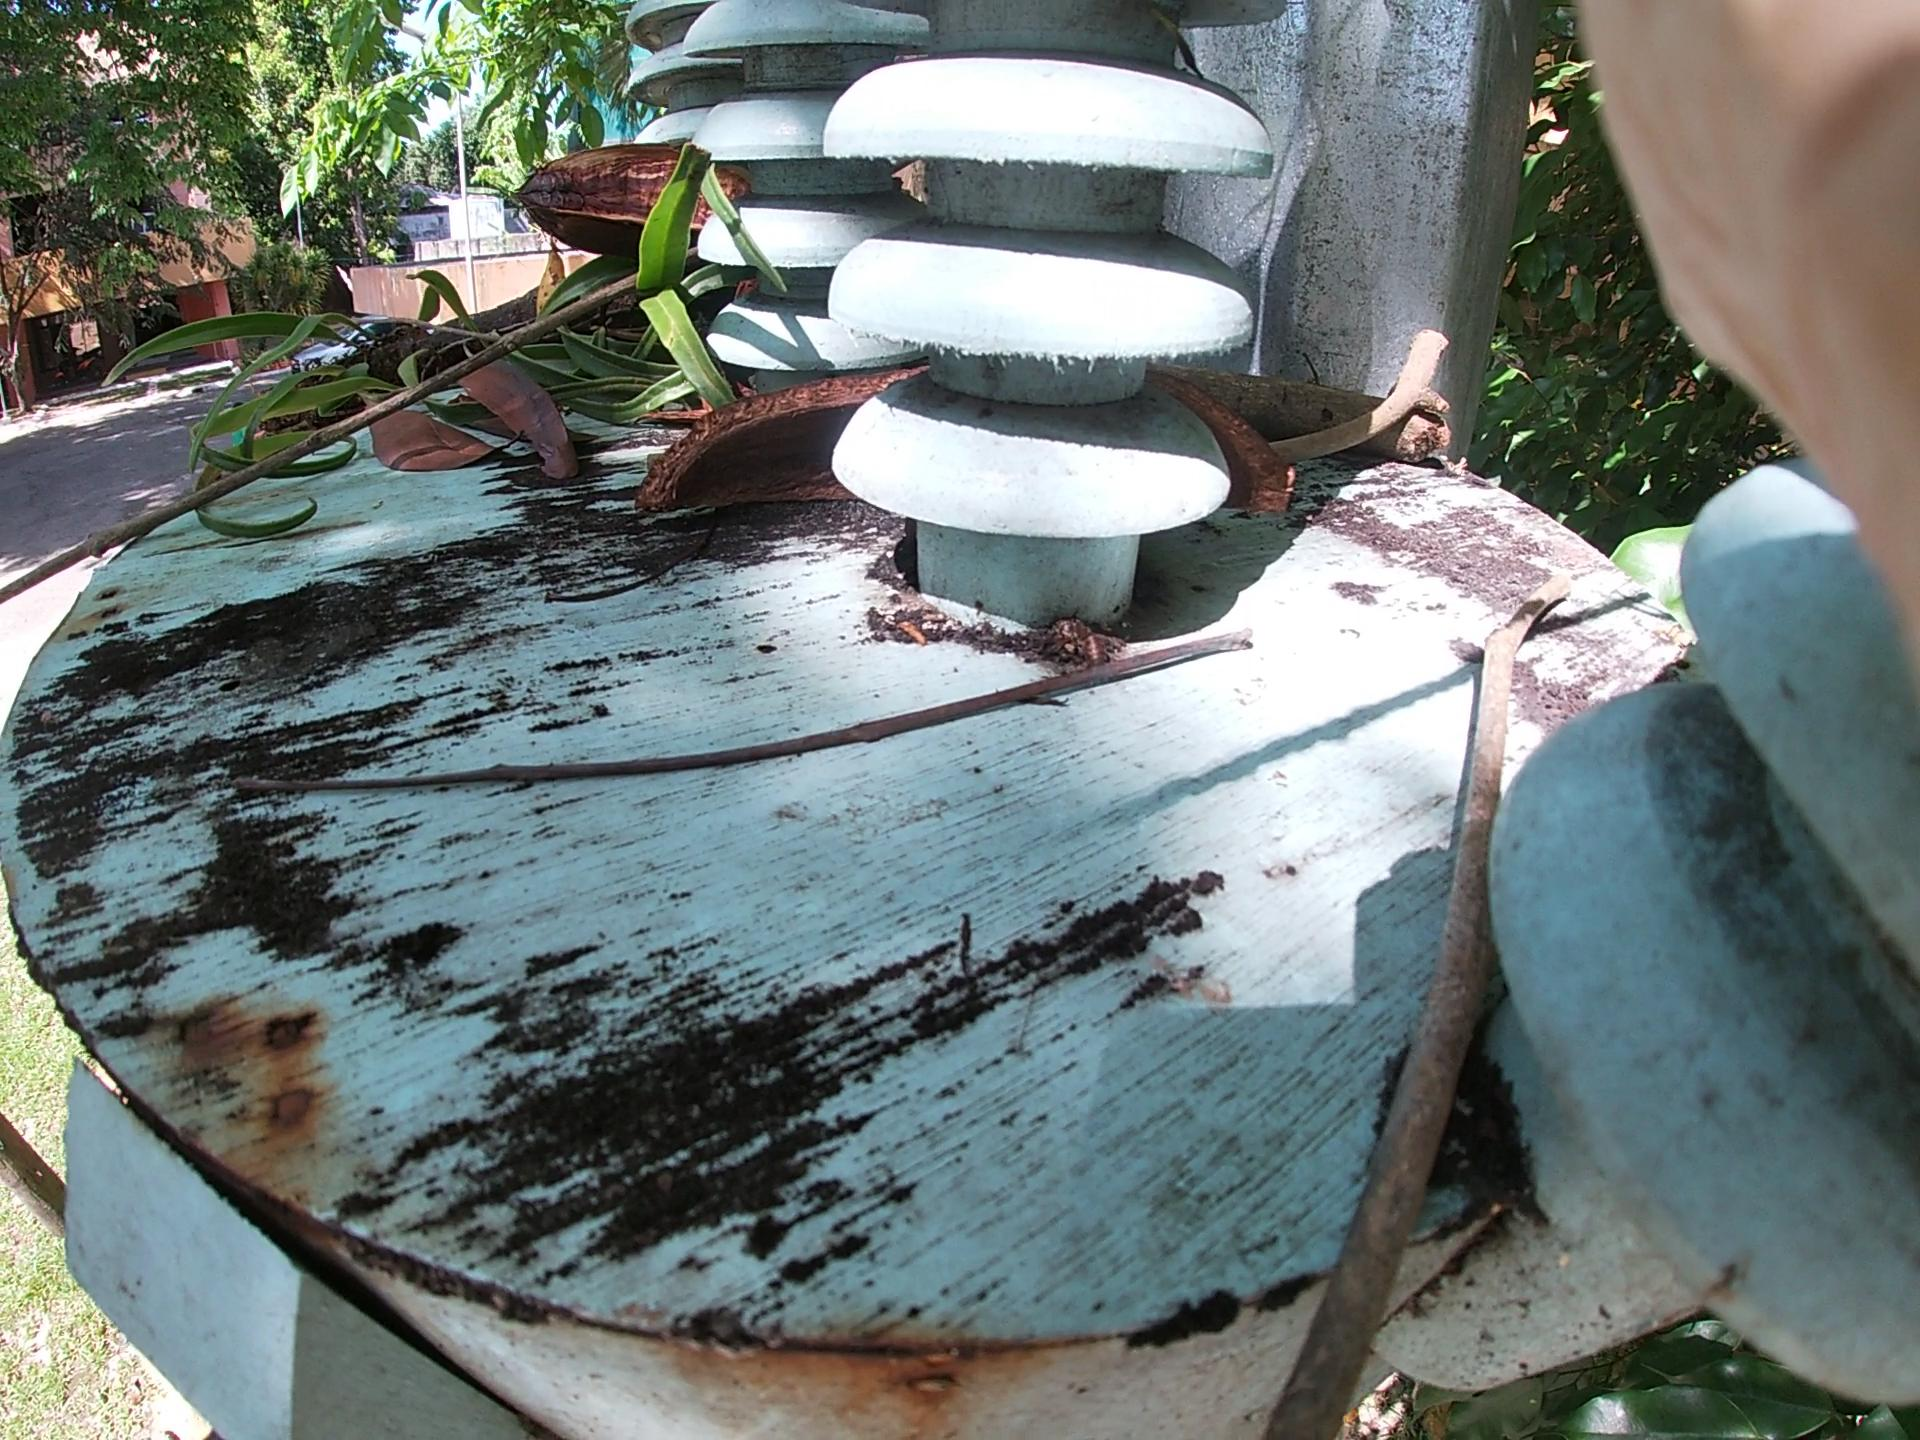branch with leaves: (70, 123, 779, 626)
leaf: (357, 293, 593, 498)
mahogany fruit: (636, 334, 1324, 602), (491, 109, 854, 365)
tree branch: (1314, 507, 1559, 1402), (33, 266, 633, 602), (401, 597, 1214, 764), (1297, 327, 1465, 522)
